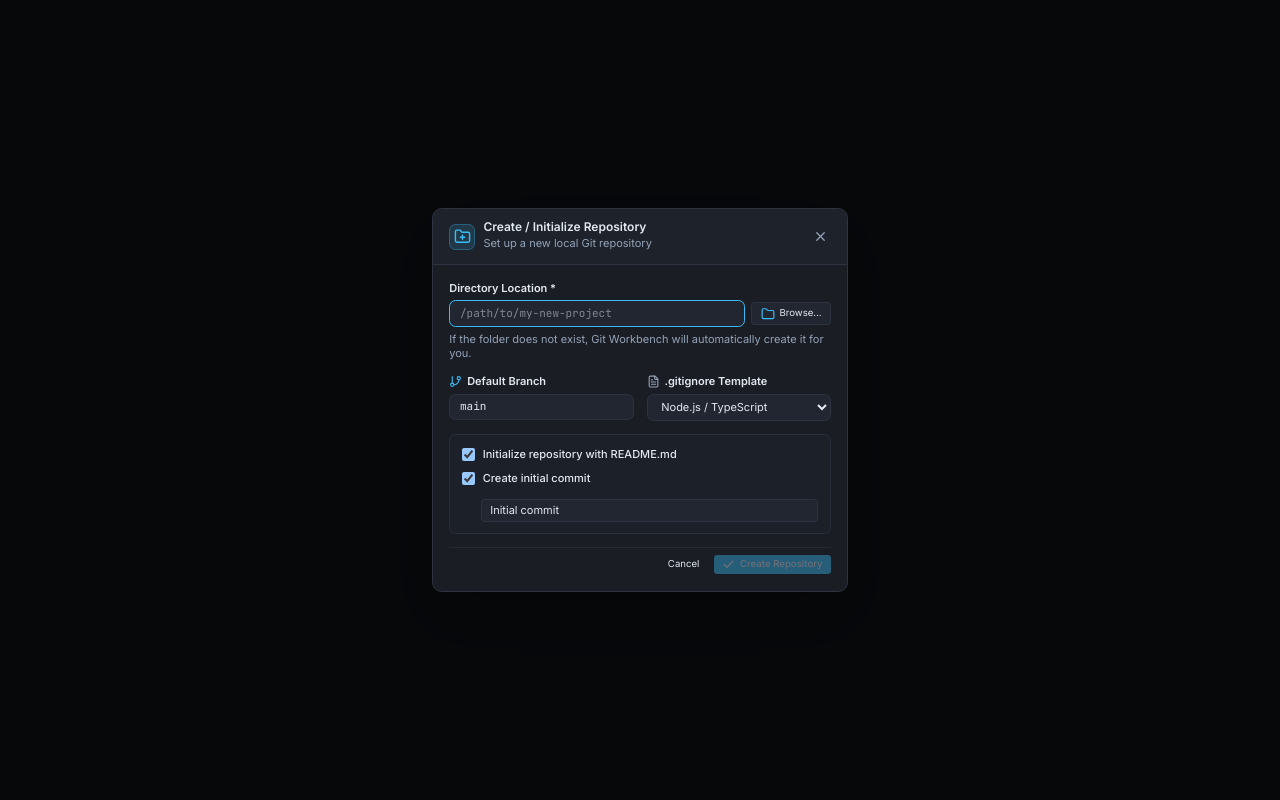
it: CreateRepoModal › reports repository initialization failure {"ok":false}
The image size is (1280, 800).
Step 1. Type "/new" into the field with placeholder "/path/to/my-new-project" → (597, 314), box [449,300,745,327]
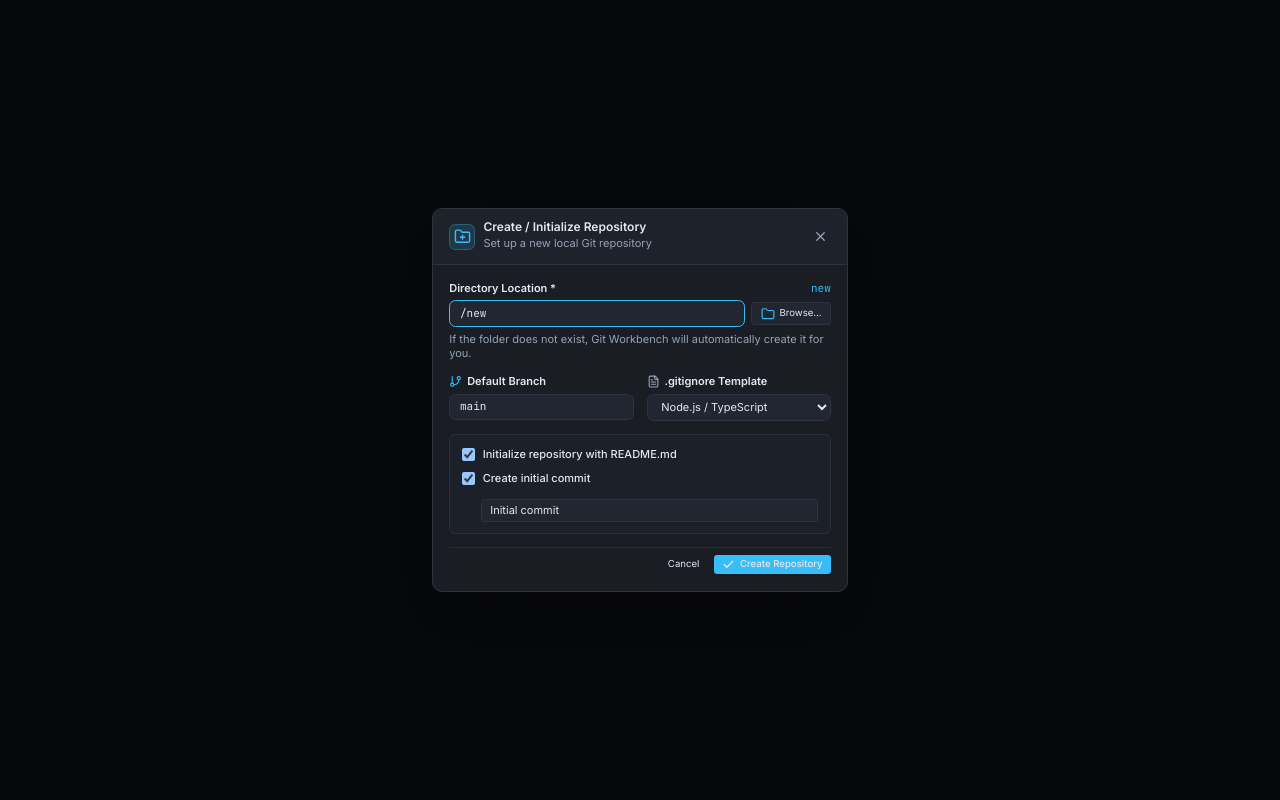
Step 2. Click the button "Create Repository" → (772, 565), box [714,555,831,574]
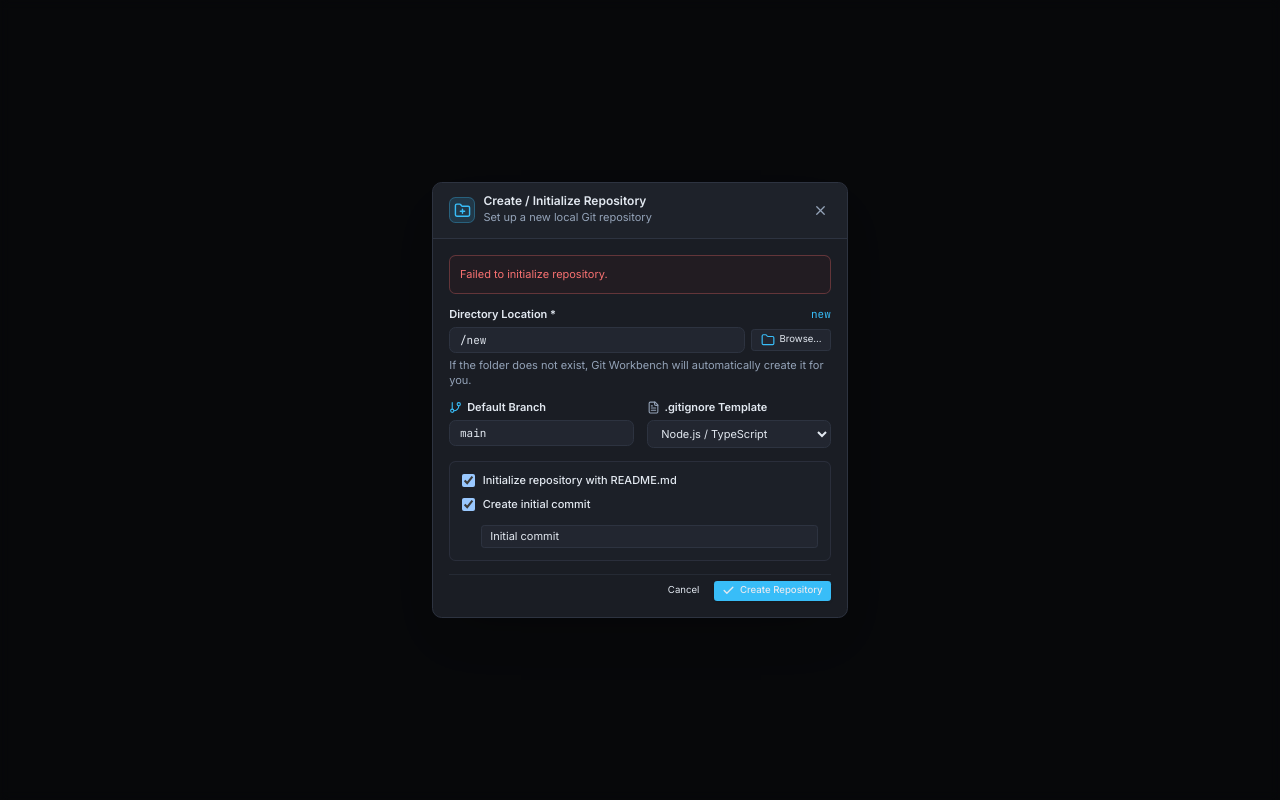
Expected: the button "Create Repository" is enabled, [714,581,831,600]
Expected: the text "Failed to initialize repository." is shown, [449,255,831,294]
